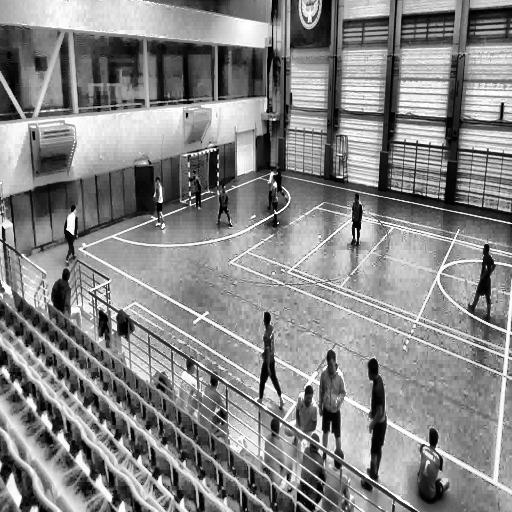ball: (81, 240, 87, 252)
player: (365, 358, 388, 490), (318, 349, 345, 458), (255, 311, 284, 408), (466, 244, 496, 321), (65, 204, 78, 264), (217, 182, 233, 227), (153, 176, 166, 231), (350, 192, 363, 246), (275, 161, 290, 206), (191, 170, 202, 212), (270, 172, 278, 226), (266, 166, 275, 211)
